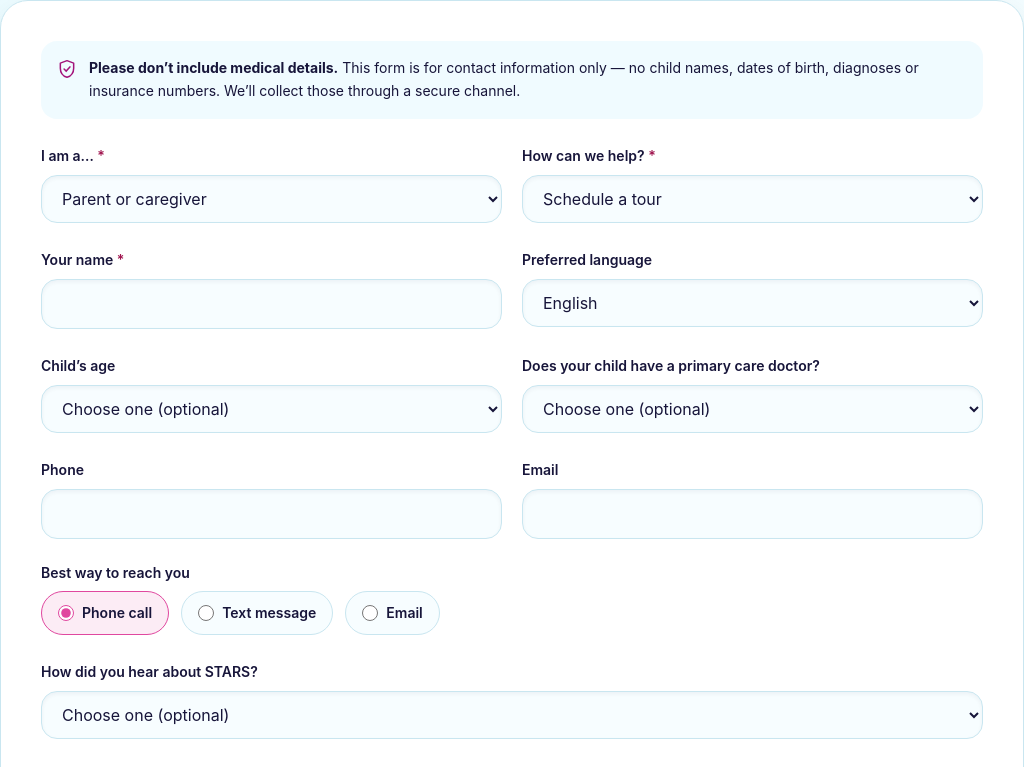
Test case: <InquiryForm /> › blocks messages that look like they contain PHI
This screenshot has width=1024, height=767.
Type "Jordan Parker" into the field labelled "Your name *". click: coordinates (272, 304)
box: left=41, top=278, right=502, bottom=328
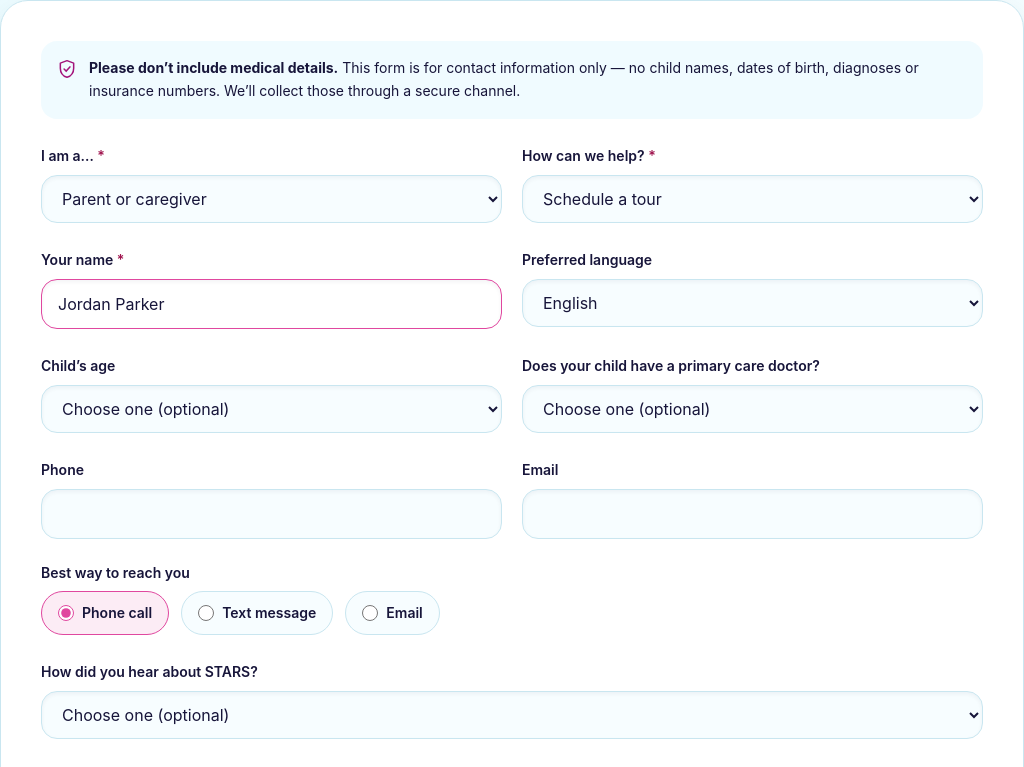
Type "870-555-0134" into the field labelled "Phone". click: coordinates (272, 514)
box: left=41, top=488, right=502, bottom=538
(page scrolled)
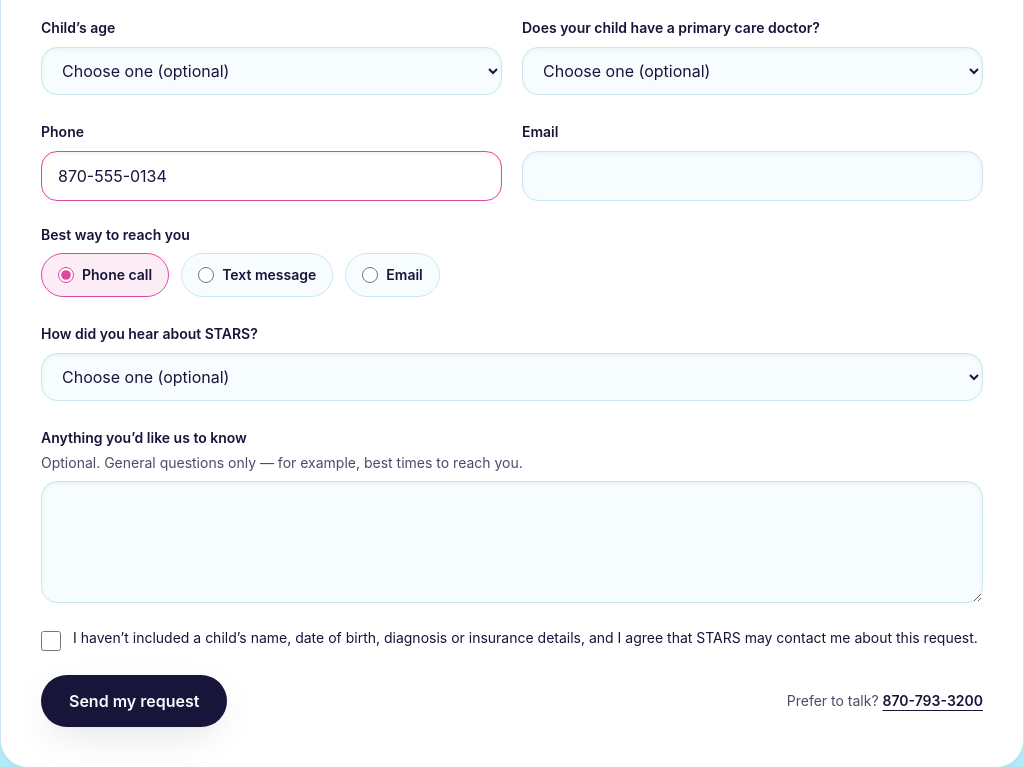
Click the checkbox. click: coordinates (51, 640)
box: left=41, top=630, right=61, bottom=650
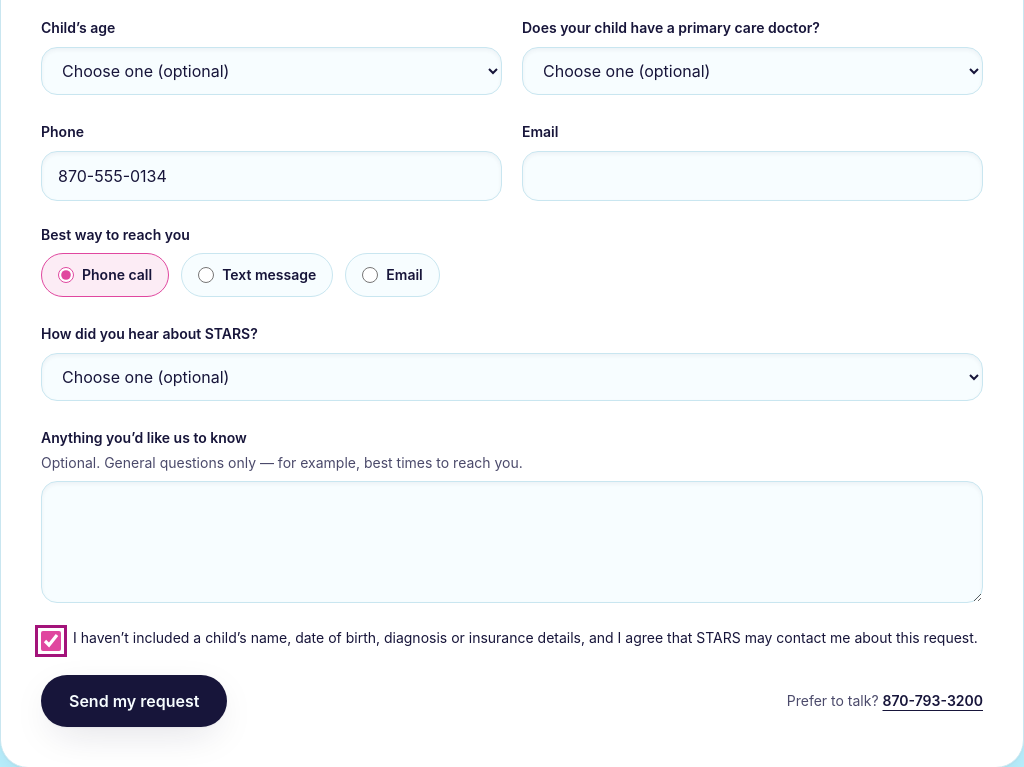
Type "DOB 01/02/2022" into the text box labelled "Anything you’d like us to know". click: coordinates (512, 542)
box: left=41, top=480, right=983, bottom=602
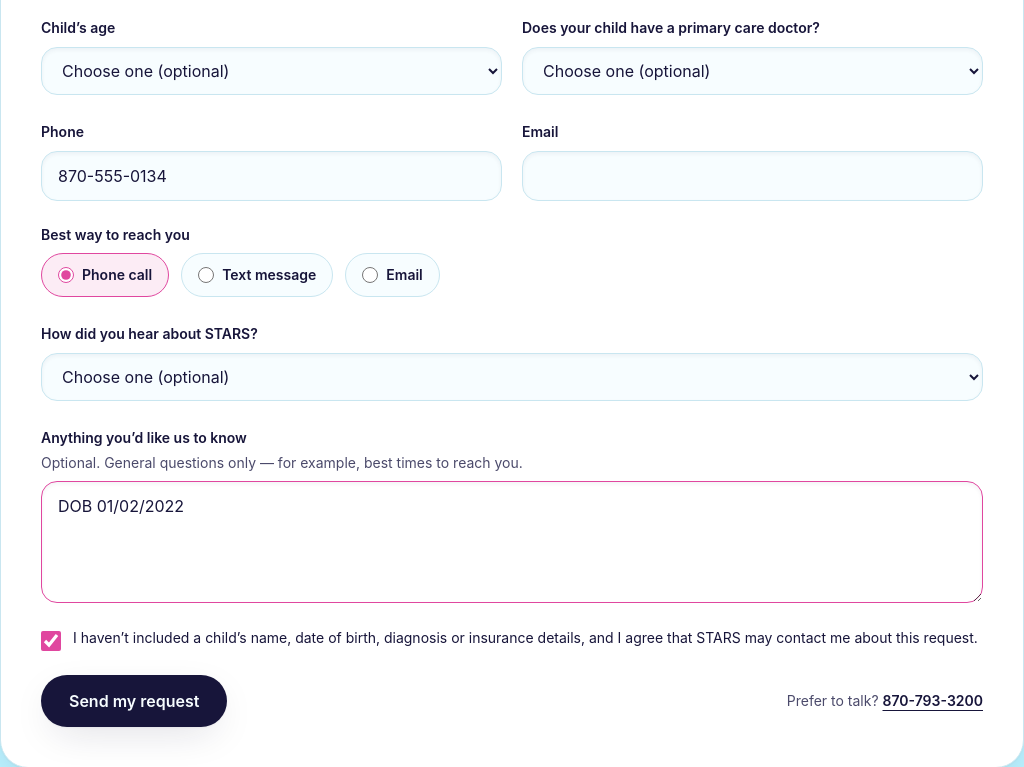
Click the button "Send my request". click: coordinates (134, 700)
box: left=41, top=674, right=227, bottom=726
(page scrolled)
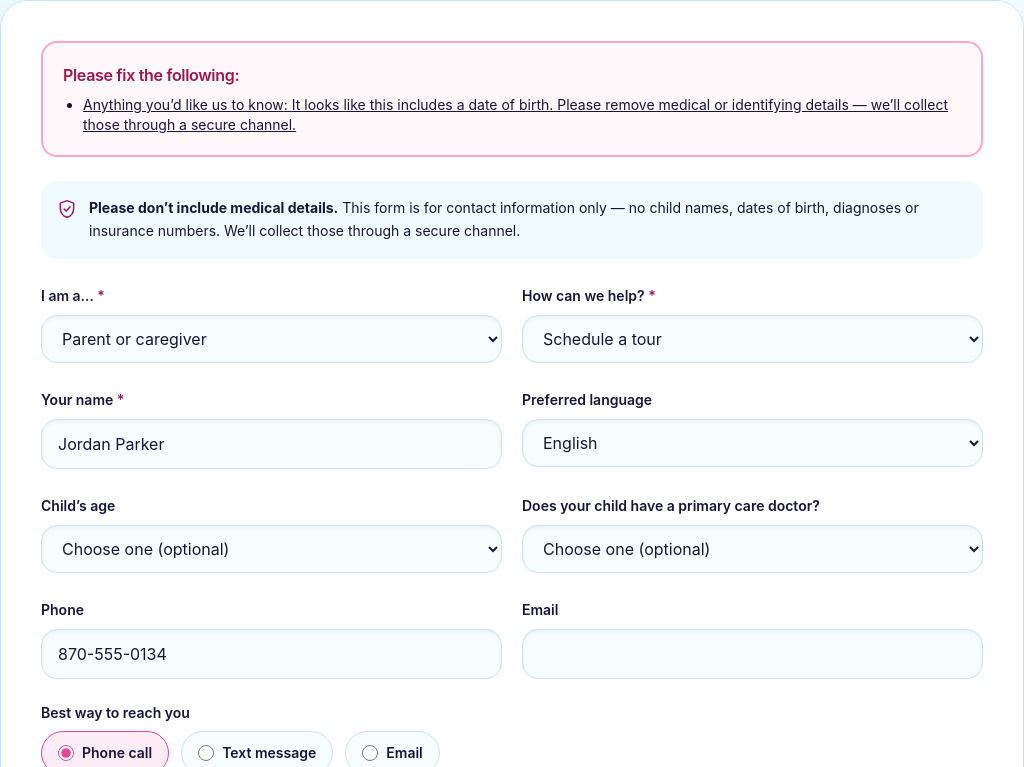
Expected: the message shows "medical or identifying", left=83, top=96, right=948, bottom=133
